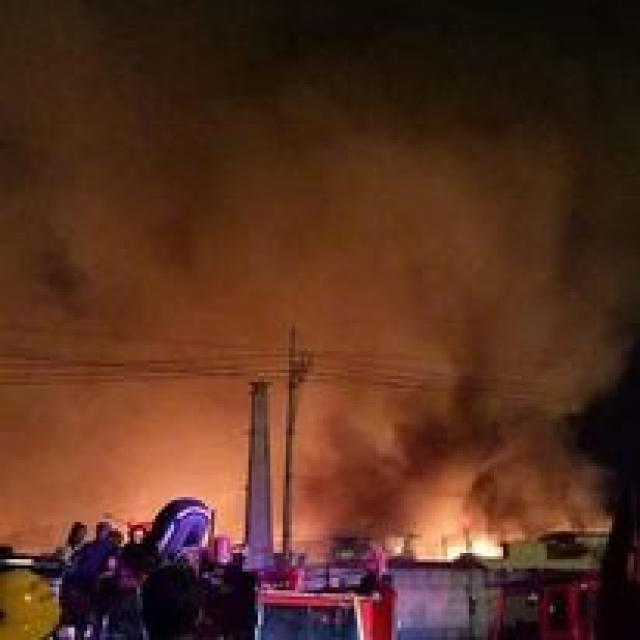Fire: (398, 498, 534, 564)
Smoke: (293, 111, 611, 538)
